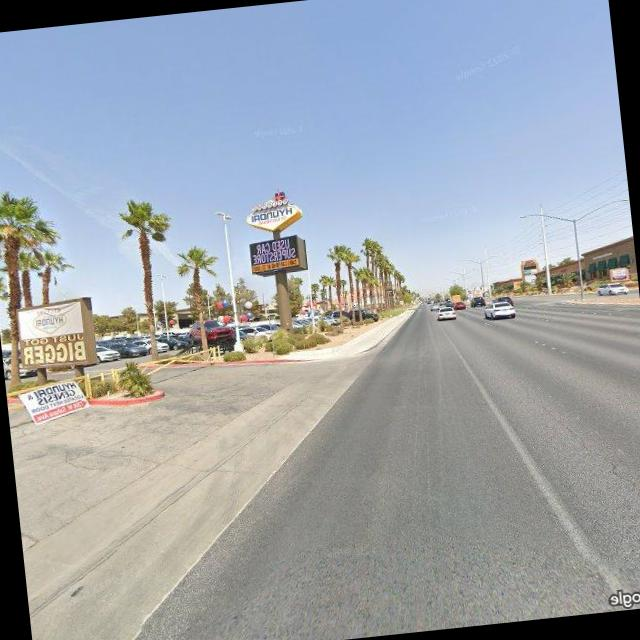pothole: (527, 370, 640, 591)
